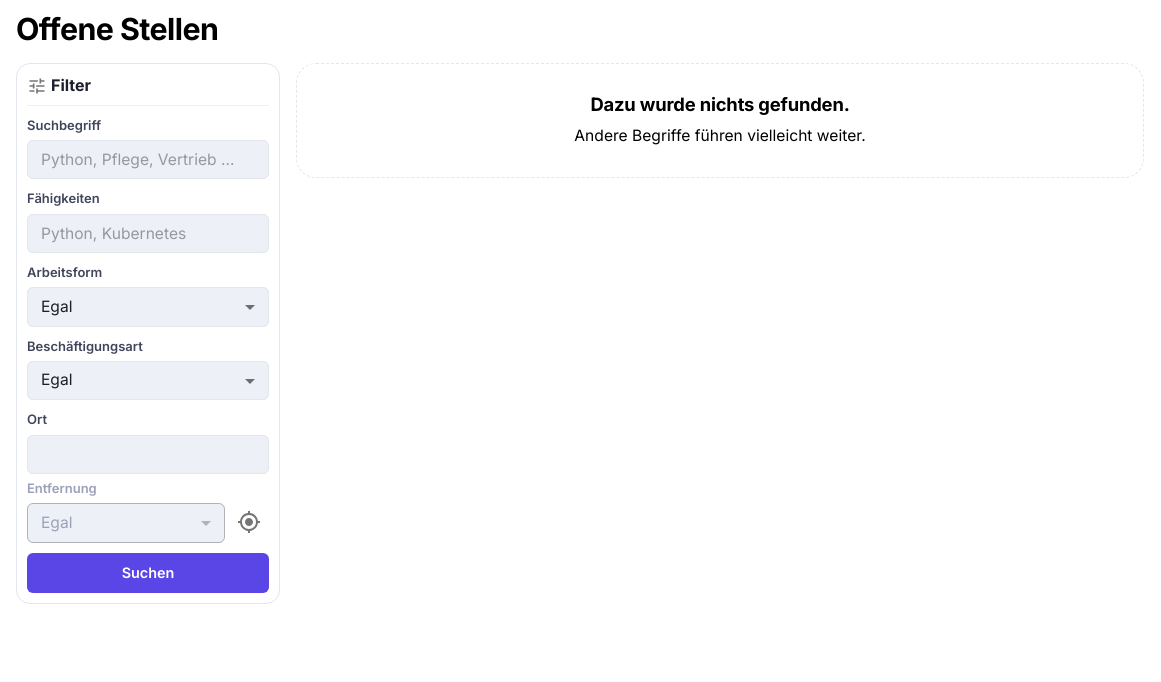
Test: JobsPage › sagt, wenn der Standortzugriff abgelehnt wurde
Check: the heading "Dazu wurde nichts gefunden." is shown, box left=590, top=92, right=850, bottom=117
Click the button named "Meinen Standort verwenden" at {"x": 249, "y": 522}, box left=229, top=502, right=269, bottom=542
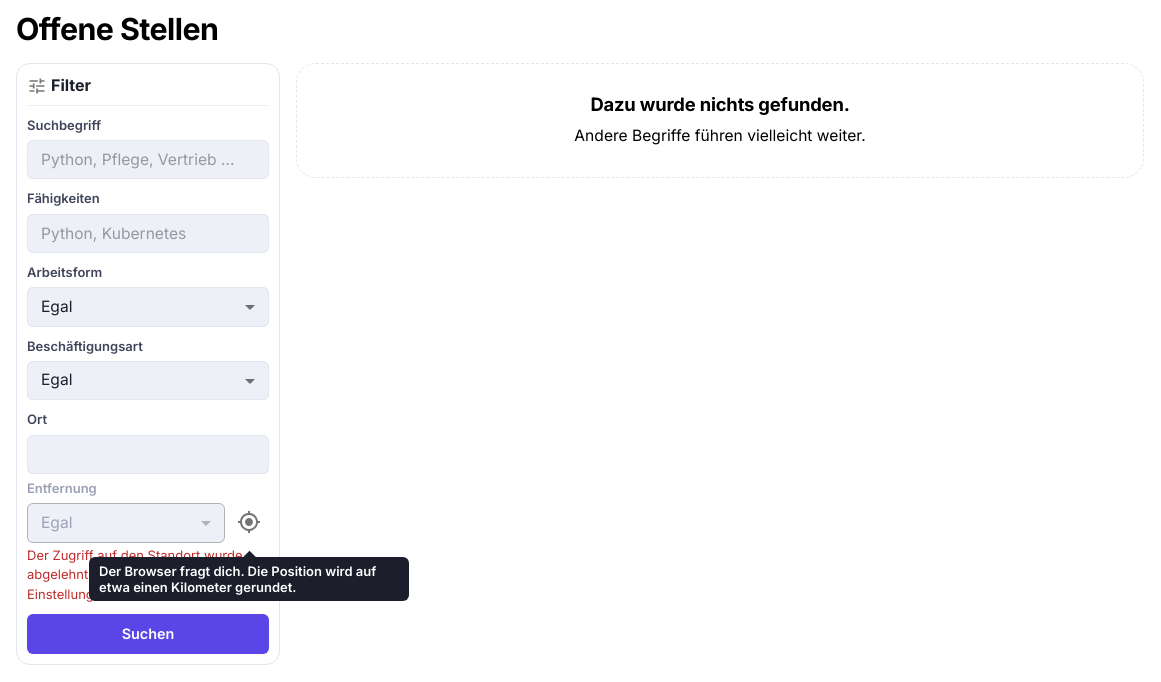
Check: the text "abgelehnt" is shown, box left=27, top=546, right=257, bottom=602
